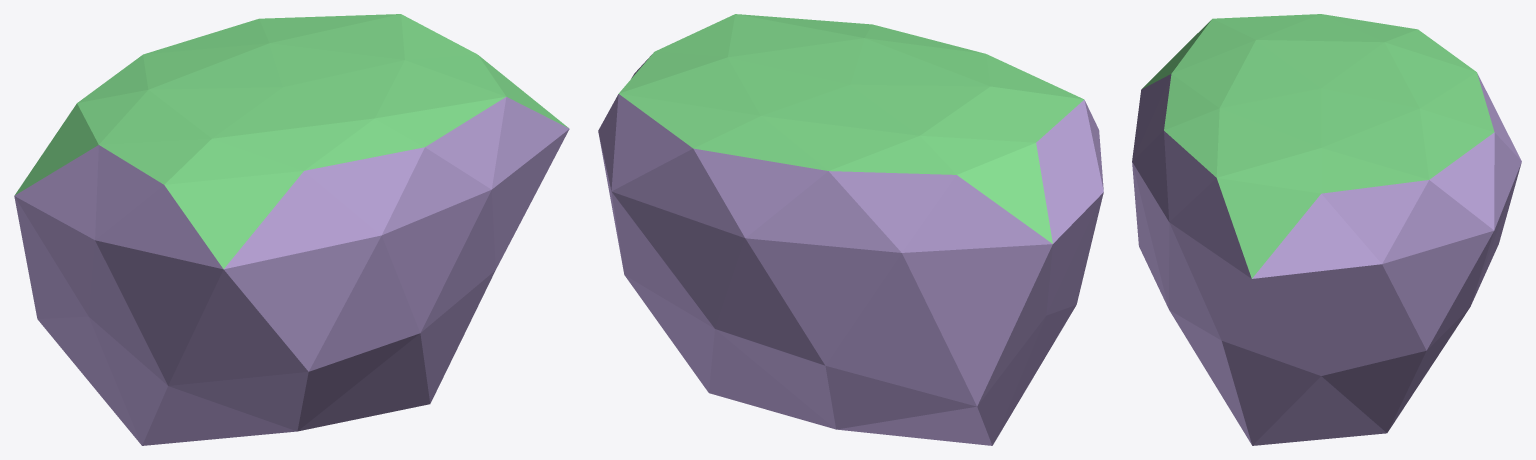
The model's file is obstacle_falling_chunk.glb.
The picture shows the model from 3 angles, left to right: view 1: azimuth 30°, elevation 25°; view 2: azimuth 150°, elevation 25°; view 3: azimuth 270°, elevation 25°; orthographic projection. The views are drawn at different scales.
Visible parts, largest first — view 1: Falling_Chunk; view 2: Falling_Chunk; view 3: Falling_Chunk.
Part boxes in pixels (bbox=[...]): Falling_Chunk: bbox=[14, 14, 569, 445]; Falling_Chunk: bbox=[598, 14, 1103, 445]; Falling_Chunk: bbox=[1132, 14, 1521, 445].
Size of the model in its own units: 2.6 by 1.68 by 1.88.
